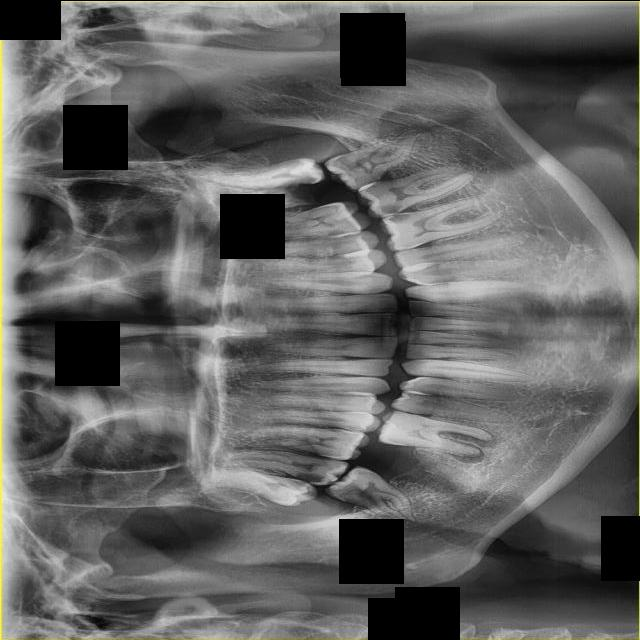Sterngold Implant: (389, 410, 429, 435), (280, 183, 315, 205), (294, 468, 328, 487), (371, 199, 405, 217), (281, 475, 309, 493), (385, 209, 415, 225), (278, 174, 317, 185), (298, 460, 325, 471), (323, 228, 350, 236), (344, 424, 362, 430)
